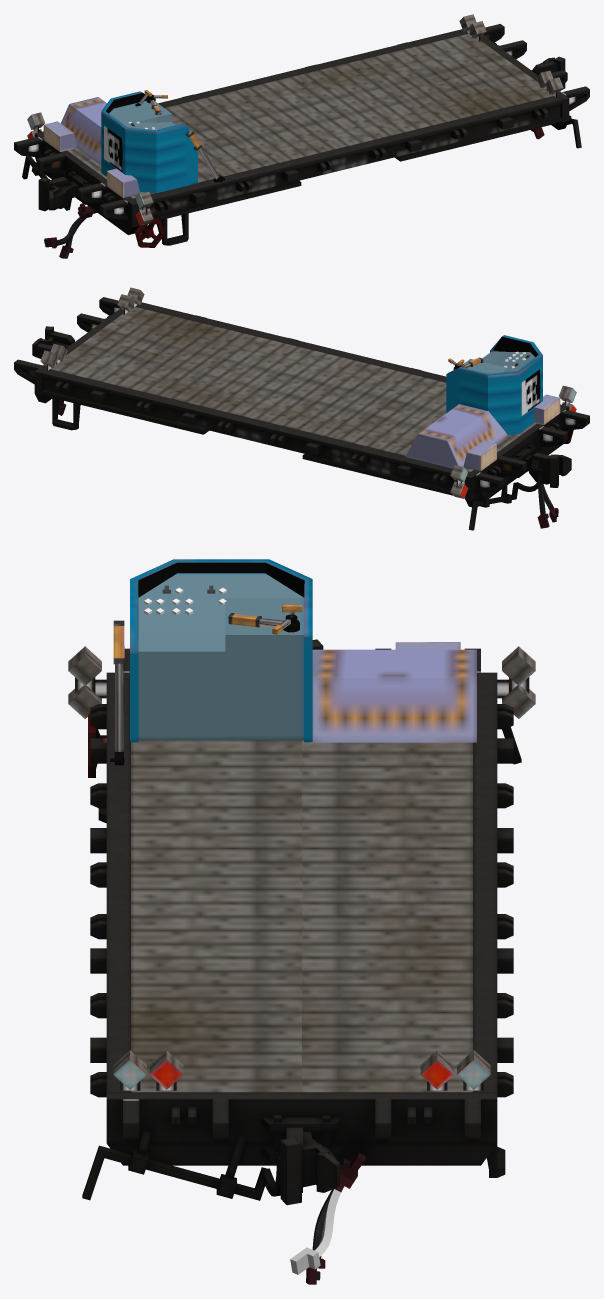
The model's file is gept.obj.
3 renders of one model, top to bottom at view 1: azimuth 30°, elevation 25°; view 2: azimuth 150°, elevation 25°; view 3: azimuth 270°, elevation 25°, orthographic. The views are drawn at different scales.
Parts seen in each view (by area): view 1: FRAME_gept, FRAME_control_gept, Fary, DECAL_MANUF, INDEPENDENT_BRAKE, COUPLED_REAR_1_HIDE_INVERT; view 2: FRAME_gept, FRAME_control_gept, Fary, DECAL_MANUF, COUPLER_ENGAGED_REAR_2_TOGGLE_mvp_gept; view 3: FRAME_gept, FRAME_control_gept, Fary, COUPLER_ENGAGED_FRONT_1_TOGGLE_mvp_gept, INDEPENDENT_BRAKE, COUPLED_FRONT_1_HIDE_INVERT.
Boxes of the visible parts, x1,y1,x2,y2 form: FRAME_gept: (14,24,589,247); FRAME_control_gept: (61,91,197,193); Fary: (31,14,563,225); DECAL_MANUF: (104,125,122,172); INDEPENDENT_BRAKE: (185,130,225,187); COUPLED_REAR_1_HIDE_INVERT: (44,217,83,248); FRAME_gept: (14,297,589,507); FRAME_control_gept: (405,335,542,468); Fary: (40,287,572,498); DECAL_MANUF: (521,369,540,415); COUPLER_ENGAGED_REAR_2_TOGGLE_mvp_gept: (468,482,517,530); FRAME_gept: (88,639,513,1205); FRAME_control_gept: (130,559,476,742); Fary: (68,642,535,1090); COUPLER_ENGAGED_FRONT_1_TOGGLE_mvp_gept: (82,1145,266,1200); INDEPENDENT_BRAKE: (113,620,124,765); COUPLED_FRONT_1_HIDE_INVERT: (290,1189,340,1274).
Bounding box in the file's own units: 9.26 × 2.48 × 3.59.
Materials: 5 (3 with a texture image).
